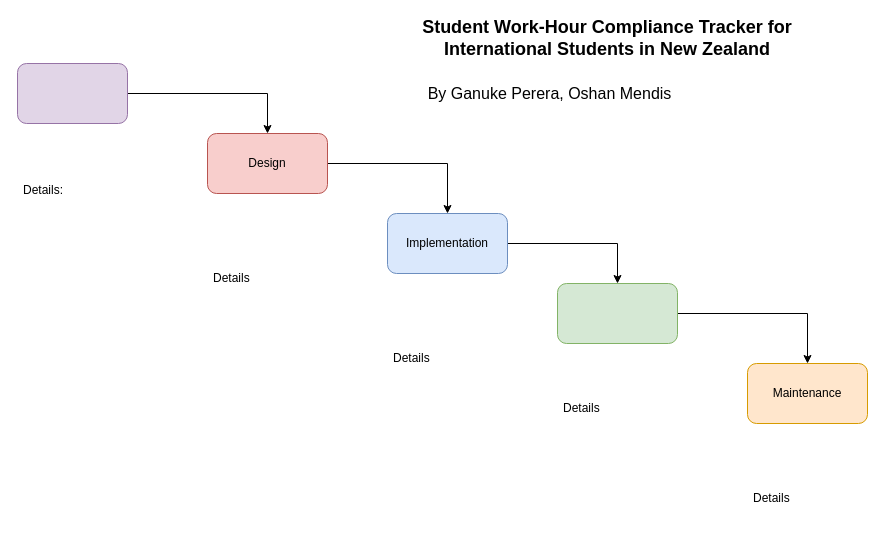
The diagram is 885 pixels wide and 551 high, and some of its shapes have lost their labels. The shapes that lost their labels are listed below. From the top down, each one's centre as x and y in pixels, then its label:
At point (72, 93): "Requirement".
At point (617, 313): "Verification".
